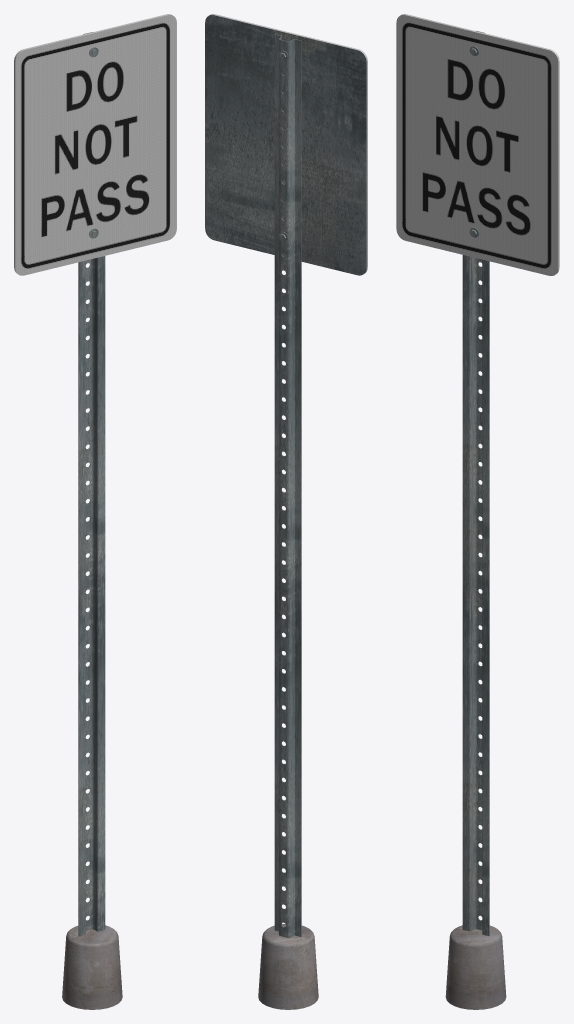
The model's file is donotpass_nsoc.obj.
3 views of the same model, side by side, from view 1: azimuth 30°, elevation 25°; view 2: azimuth 150°, elevation 25°; view 3: azimuth 330°, elevation 25° (orthographic).
Visible parts, largest first — view 1: sign_do_not_pass; view 2: sign_do_not_pass; view 3: sign_do_not_pass.
Part boxes in pixels (bbox=[...]): sign_do_not_pass: bbox=[14, 14, 176, 1009]; sign_do_not_pass: bbox=[205, 14, 367, 1009]; sign_do_not_pass: bbox=[396, 14, 559, 1009].
Size of the model in its own units: 18 by 103 by 5.84.
Materials: 3 (3 with a texture image).
